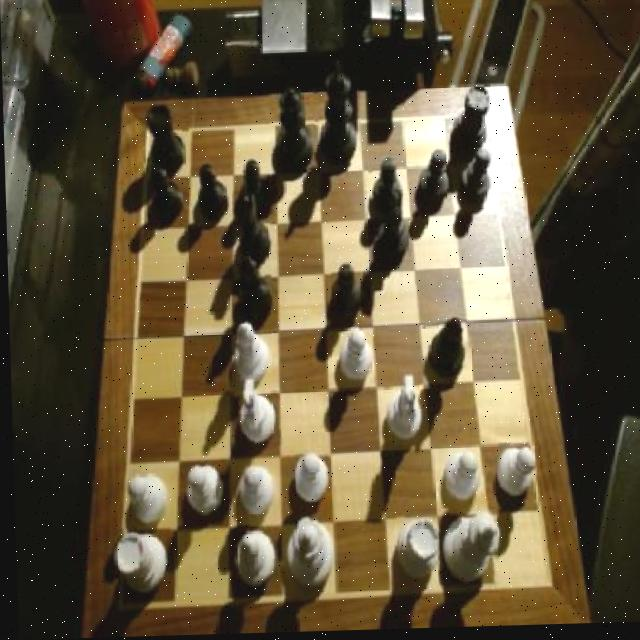bishop: (422, 320, 469, 381), (231, 258, 272, 325)
black-bishop: (319, 62, 362, 167)
black-king: (232, 192, 271, 268), (376, 192, 410, 265)
black-knight: (331, 264, 366, 326), (239, 160, 272, 224), (416, 151, 449, 213), (150, 165, 187, 220), (367, 160, 404, 215), (459, 152, 493, 211), (195, 166, 229, 222)
black-pawn: (270, 86, 316, 173)
black-queen: (448, 87, 491, 166), (144, 103, 188, 179)
black-rook: (231, 528, 278, 594), (229, 319, 271, 385)
white-bishop: (438, 510, 499, 587)
white-king: (230, 376, 277, 451), (383, 375, 427, 451)
white-knight: (182, 461, 228, 523), (495, 446, 541, 507), (125, 469, 169, 532), (440, 448, 482, 510), (234, 463, 276, 524), (289, 450, 329, 510), (340, 330, 375, 388)
white-pawn: (281, 516, 334, 595)
white-queen: (109, 530, 168, 601), (393, 518, 442, 590)
